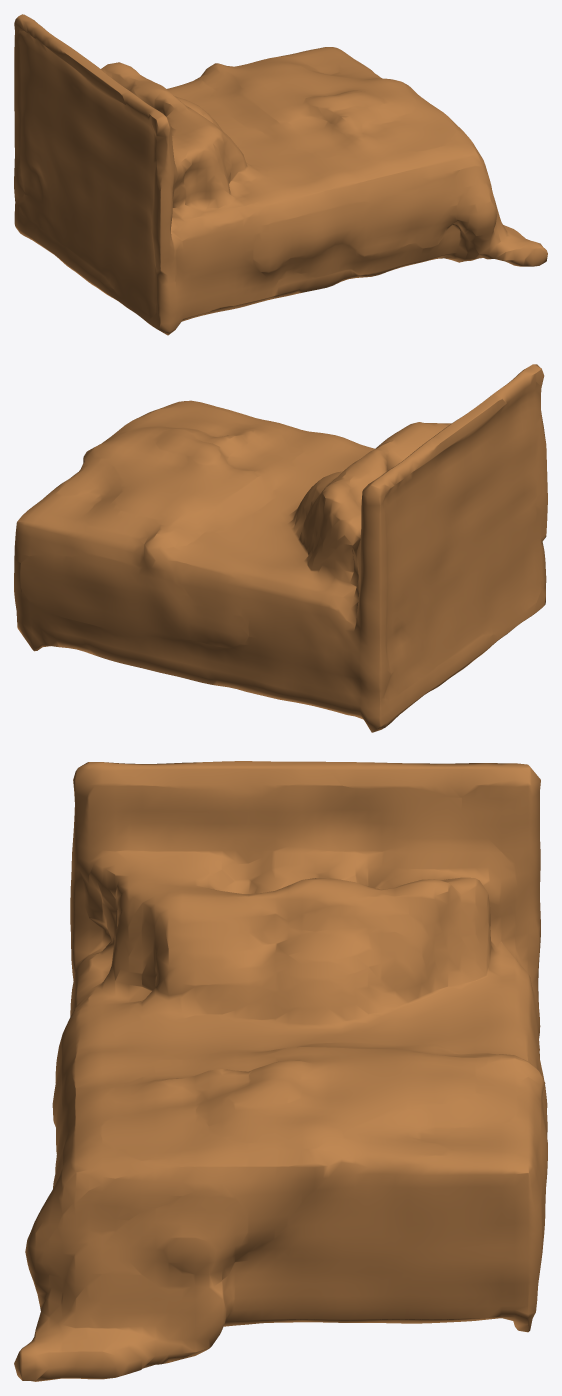
The model's file is bed_1_1.obj.
3 views of the same model, one above another, from view 1: azimuth 30°, elevation 25°; view 2: azimuth 150°, elevation 25°; view 3: azimuth 270°, elevation 25° (orthographic). The views are drawn at different scales.
Bounding box in the file's own units: 0.7893 × 0.4519 × 0.6269.
